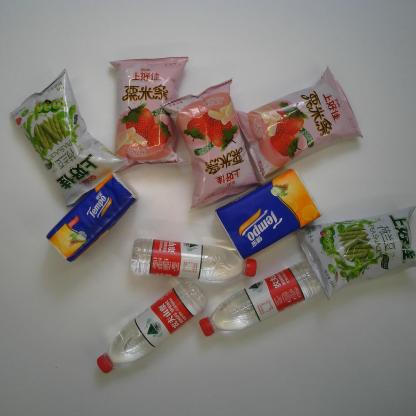Drink: (94, 278, 210, 375), (198, 259, 324, 340), (128, 235, 261, 286)
Puffed Food: (7, 66, 127, 213), (232, 65, 366, 183), (162, 75, 264, 213), (294, 202, 416, 303), (109, 53, 189, 176)
Tissue: (214, 168, 322, 262), (43, 169, 135, 263)
